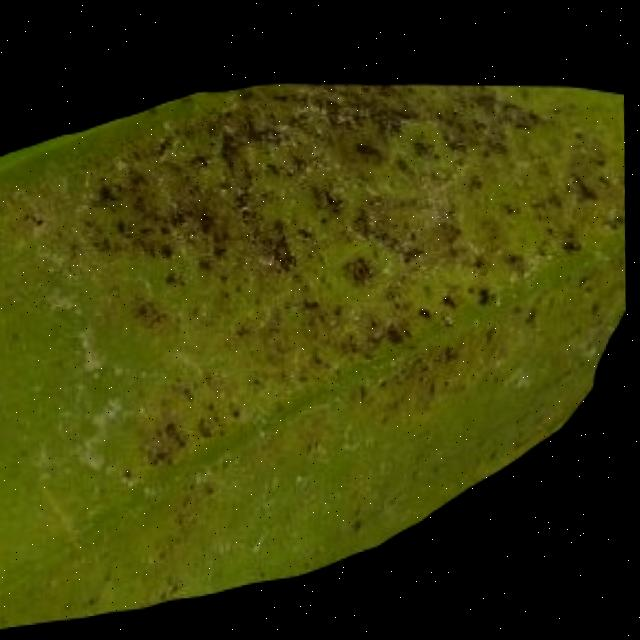mite: (84, 102, 587, 484), (323, 237, 390, 298), (343, 253, 379, 284), (469, 278, 496, 305), (476, 282, 494, 302), (417, 303, 434, 319)
spots: (0, 73, 629, 637)
